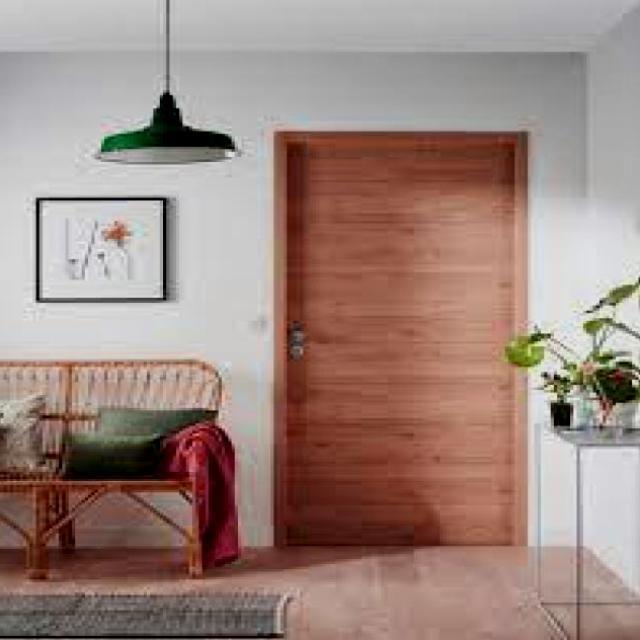door: (273, 129, 528, 548)
